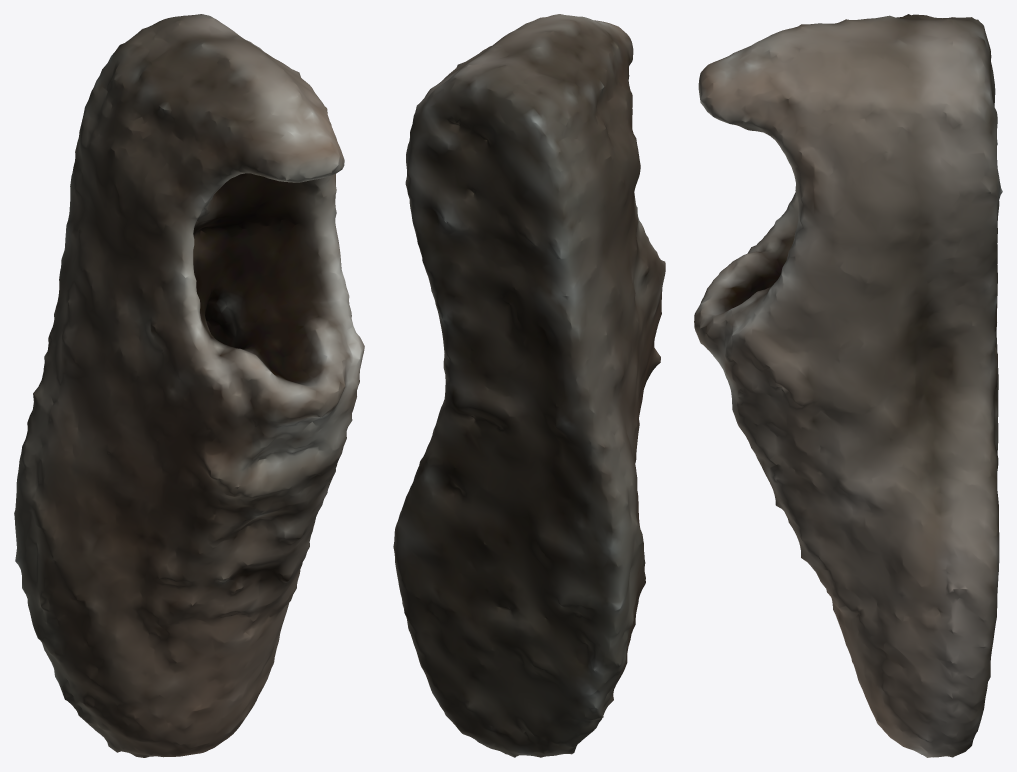
File: shoe3.glb
The picture shows the model from 3 angles, left to right: view 1: azimuth 30°, elevation 25°; view 2: azimuth 150°, elevation 25°; view 3: azimuth 270°, elevation 25°; orthographic projection. The views are drawn at different scales.
Size of the model in its own units: 0.3538 by 0.9937 by 0.3794.
